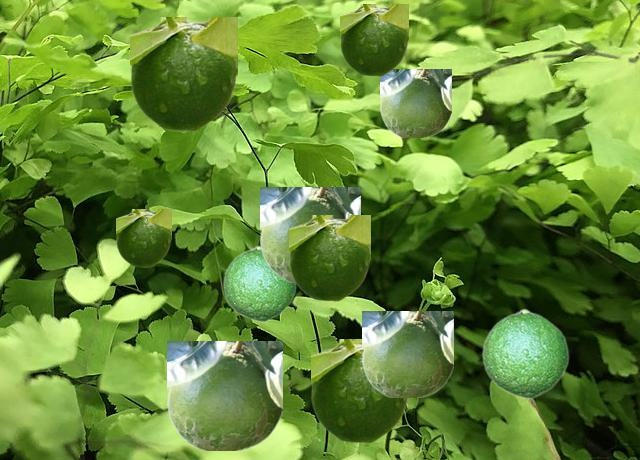dalandan: (167, 341, 281, 449), (130, 17, 236, 130), (311, 339, 408, 442), (260, 187, 359, 281), (481, 308, 568, 398), (362, 311, 452, 396), (289, 215, 369, 300), (222, 245, 295, 321), (340, 4, 407, 75), (380, 69, 450, 136), (116, 209, 170, 266)
